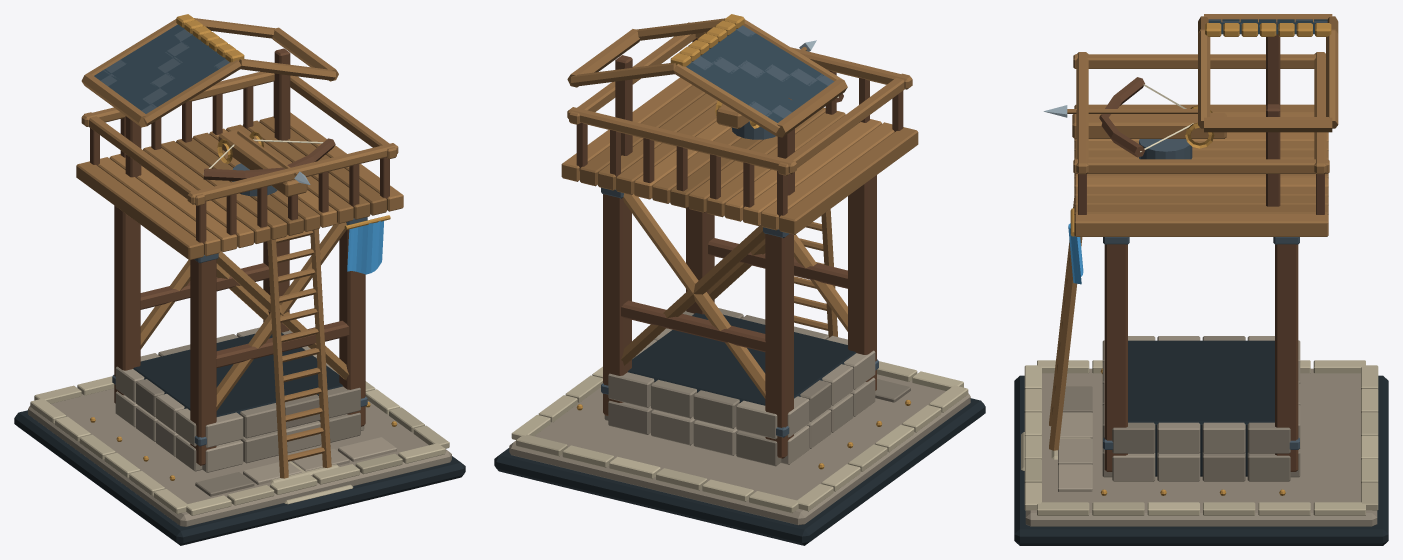
Rendered from archer__francoatiradora__L05.glb.
3 views of the same model, side by side, from view 1: azimuth 30°, elevation 25°; view 2: azimuth 150°, elevation 25°; view 3: azimuth 270°, elevation 25° (orthographic). The views are drawn at different scales.
Visible parts, largest first — view 1: structure, weapon, banners; view 2: structure, weapon; view 3: structure, weapon, banners.
Boxes of the visible parts, left/top/right/bottom form: structure: left=14, top=14, right=465, bottom=545; weapon: left=203, top=129, right=335, bottom=196; banners: left=344, top=215, right=390, bottom=274; structure: left=494, top=14, right=985, bottom=545; weapon: left=715, top=40, right=843, bottom=139; structure: left=1014, top=14, right=1388, bottom=545; weapon: left=1043, top=77, right=1226, bottom=159; banners: left=1068, top=208, right=1083, bottom=284.
Bounding box in the file's own units: 0.803 × 1.05 × 0.803.
